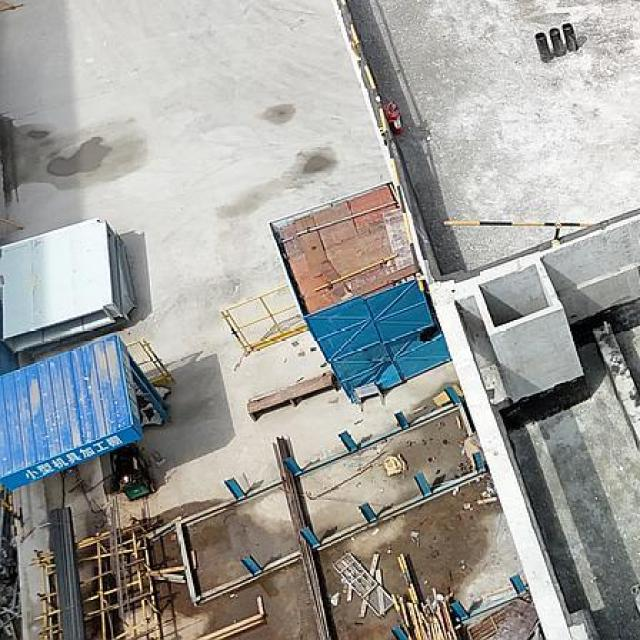edge_guardrail: (337, 0, 425, 291), (443, 219, 590, 241)
